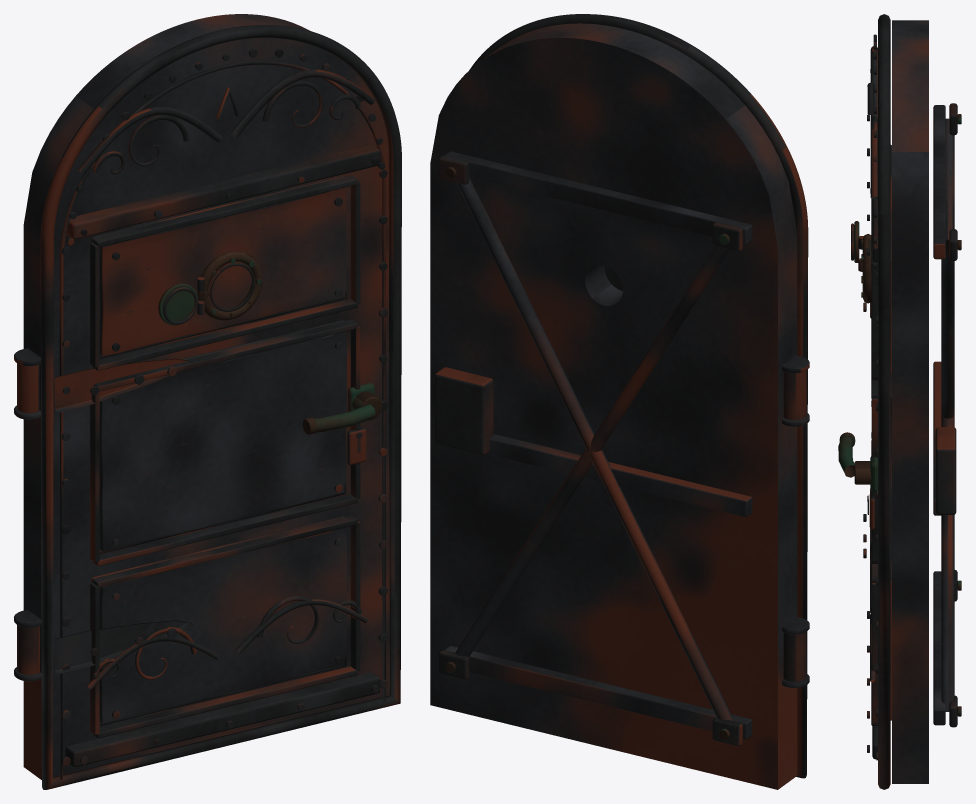
Rendered from herrero-door-v018-pbr1024.glb.
3 renders of one model, left to right at view 1: azimuth 30°, elevation 25°; view 2: azimuth 150°, elevation 25°; view 3: azimuth 270°, elevation 25°, orthographic. The views are drawn at different scales.
Visible parts, largest first — view 1: Door_arched_iron_body, Hand-hammered_twisted_sheet_1, Hand-hammered_twisted_sheet_0, Outer_arch_rolled_rim, Hand-hammered_twisted_sheet_2, Heavy_merchant_shop_crossbar.001, Heavy_merchant_shop_crossbar, Inner_arch_raised_bead, Functional_riveted_hinge_strap, Forged_panel_horizontal_lip.001, Forged_panel_horizontal_lip.005, Forged_panel_horizontal_lip.002 (+24 smaller); view 2: Door_arched_iron_body, Outer_arch_rolled_rim, Interior_diagonal_stiffener, Interior_diagonal_stiffener.001, Interior_forged_crossbrace.002, Interior_forged_crossbrace, Interior_forged_crossbrace.001, Interior_lock_case, Functional_vertical_hinge_barrel, Functional_vertical_hinge_barrel.001, Structural_rear_brace_end_plate.003, Structural_rear_brace_end_plate.001; view 3: Door_arched_iron_body, Outer_arch_rolled_rim, Interior_diagonal_stiffener.001, Interior_diagonal_stiffener, Interior_forged_crossbrace.002, Interior_lock_case, Interior_forged_crossbrace, Forged_panel_vertical_lip.001, Interior_forged_crossbrace.001, Forged_panel_vertical_lip.005, Forged_panel_vertical_lip.003, Upper_sweeping_arch_vine.001 (+12 smaller).
Part boxes in pixels (x1,y1,x2,y2): Door_arched_iron_body: (23,14,389,779); Hand-hammered_twisted_sheet_1: (99,331,346,551); Hand-hammered_twisted_sheet_0: (99,527,347,723); Outer_arch_rolled_rim: (40,25,401,789); Hand-hammered_twisted_sheet_2: (99,187,346,356); Heavy_merchant_shop_crossbar.001: (66,144,380,239); Heavy_merchant_shop_crossbar: (65,672,380,767); Inner_arch_raised_bead: (59,60,386,780); Functional_riveted_hinge_strap: (54,620,192,673); Forged_panel_horizontal_lip.001: (92,515,357,587); Forged_panel_horizontal_lip.005: (92,175,357,247); Forged_panel_horizontal_lip.002: (92,494,357,565); Door_arched_iron_body: (430,23,797,789); Outer_arch_rolled_rim: (469,14,808,778); Interior_diagonal_stiffener: (456,177,733,720); Interior_diagonal_stiffener.001: (455,246,729,656); Interior_forged_crossbrace.002: (444,151,752,244); Interior_forged_crossbrace: (444,646,752,739); Interior_forged_crossbrace.001: (486,434,752,516); Interior_lock_case: (434,367,493,455); Functional_vertical_hinge_barrel: (783,632,806,681); Functional_vertical_hinge_barrel.001: (783,370,806,420); Structural_rear_brace_end_plate.003: (712,222,742,251); Structural_rear_brace_end_plate.001: (439,155,469,184); Door_arched_iron_body: (892,20,928,783); Outer_arch_rolled_rim: (878,14,890,789); Interior_diagonal_stiffener.001: (941,118,954,711); Interior_diagonal_stiffener: (941,239,954,418); Interior_forged_crossbrace.002: (933,105,945,259); Interior_lock_case: (935,427,956,514); Interior_forged_crossbrace: (933,571,945,725); Forged_panel_vertical_lip.001: (871,583,877,723); Interior_forged_crossbrace.001: (933,361,944,515); Forged_panel_vertical_lip.005: (871,262,877,377); Forged_panel_vertical_lip.003: (871,398,877,561); Upper_sweeping_arch_vine.001: (870,116,877,199).
Size of the model in its own units: 1.25 by 2.3 by 0.3809.
4 materials, 4 textured.
